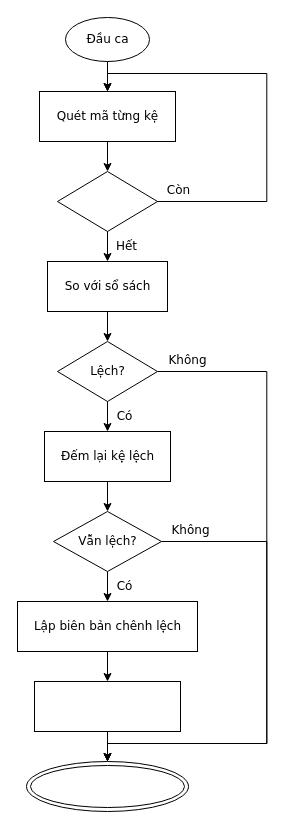
The diagram is 293 pixels wide and 829 high, and some of its shapes have lost their labels. Here are the shapes that lost their labels. From the top down, the centre of each, then its label:
At point 107,201: "Còn kệ?".
At point 107,706: "Điều chỉnh tồn kho".
At point 107,786: "Chốt kiểm kho".
